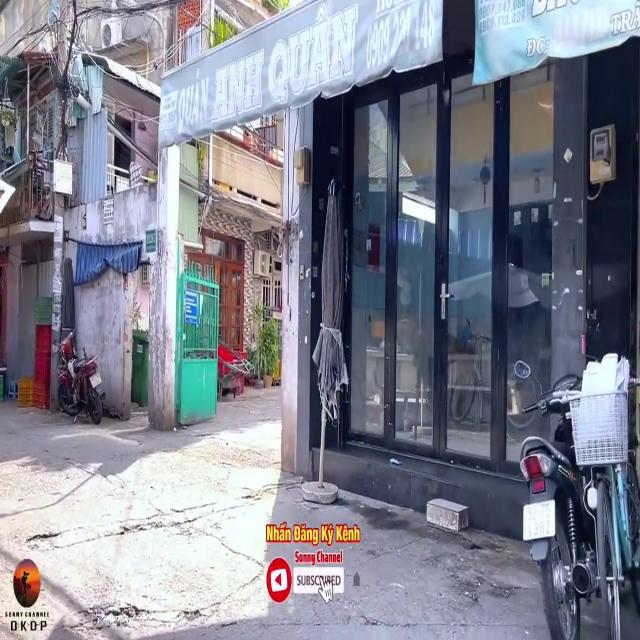bien_trang: (522, 499, 556, 545)
